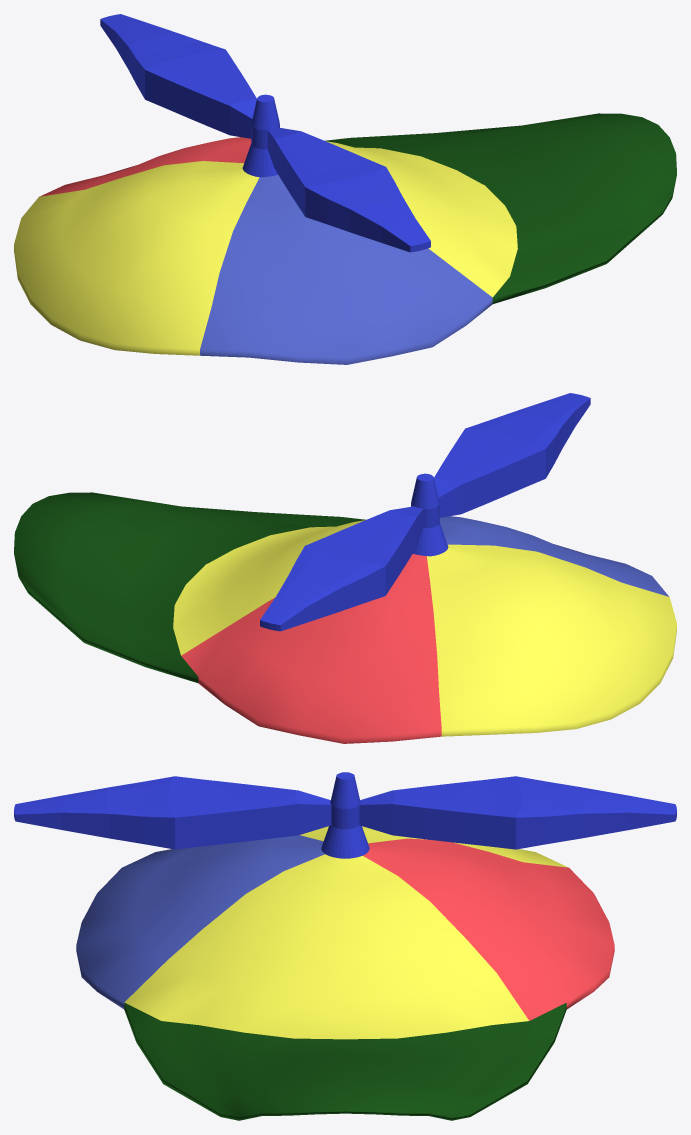
The model's file is propellor_hat.fbx.
The picture shows the model from 3 angles, top to bottom: view 1: azimuth 30°, elevation 25°; view 2: azimuth 150°, elevation 25°; view 3: azimuth 270°, elevation 25°; orthographic projection. The views are drawn at different scales.
Visible parts, largest first — view 1: hat, propellor; view 2: hat, propellor; view 3: hat, propellor.
Part boxes in pixels (<box>): hat: <box>14,113,676,364</box>; propellor: <box>100,14,430,252</box>; hat: <box>14,492,676,743</box>; propellor: <box>260,393,590,631</box>; hat: <box>76,826,614,1120</box>; propellor: <box>14,772,676,858</box>.
Size of the model in its own units: 88.32 by 24.24 by 78.54.
